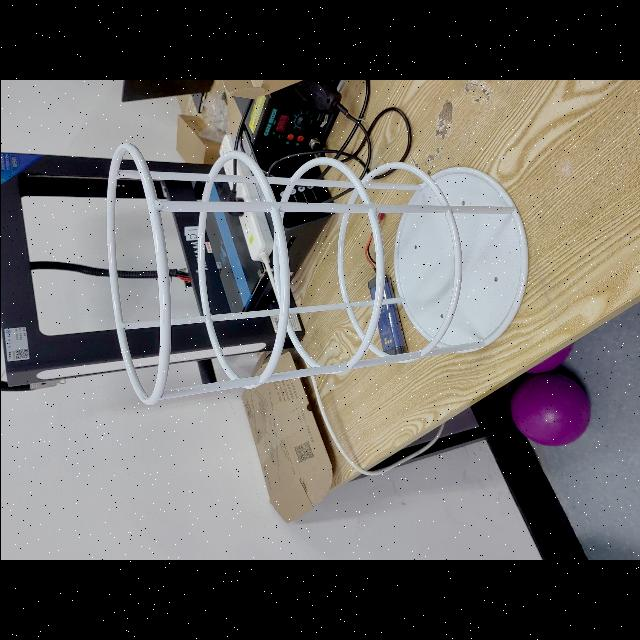S: (100, 140, 532, 408)
